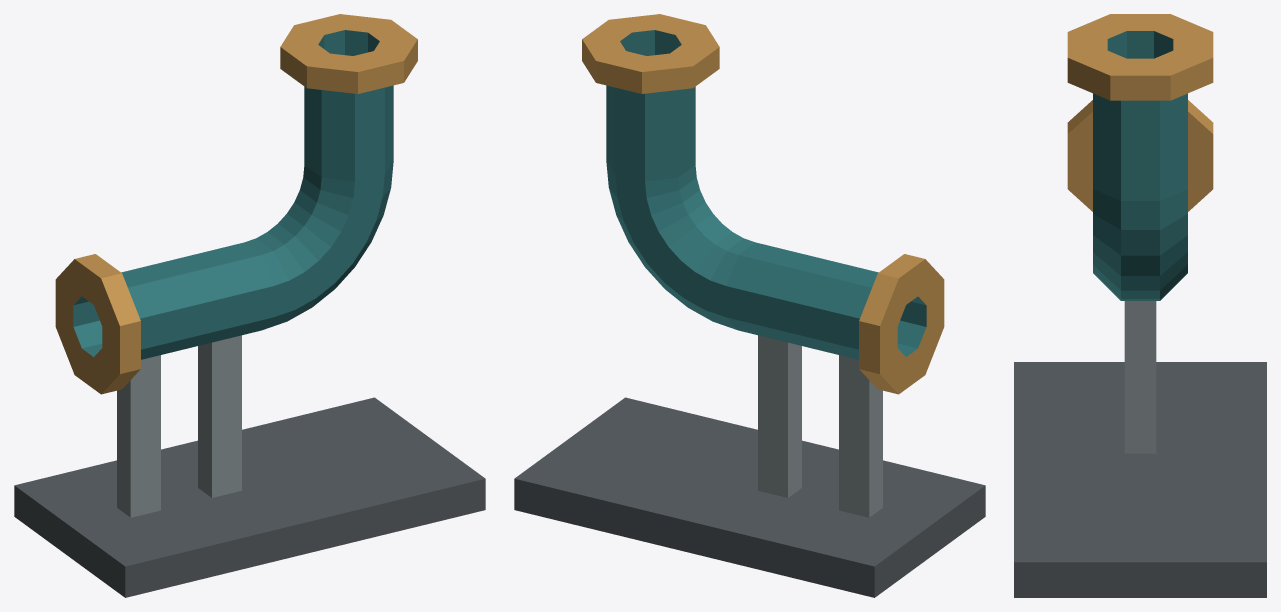
3 views of the same model, side by side, from view 1: azimuth 30°, elevation 25°; view 2: azimuth 150°, elevation 25°; view 3: azimuth 270°, elevation 25° (orthographic). The views are drawn at different scales.
Parts seen in each view (by area): view 1: ContinuousOpenFlangedElbow, GroundedDisplayBase, CompletePipePedestal_1, CompletePipePedestal_0; view 2: ContinuousOpenFlangedElbow, GroundedDisplayBase, CompletePipePedestal_1, CompletePipePedestal_0; view 3: GroundedDisplayBase, ContinuousOpenFlangedElbow, CompletePipePedestal_1.
Part boxes in pixels (x1,y1,x2,y2): ContinuousOpenFlangedElbow: (55,14,417,394); GroundedDisplayBase: (14,397,485,597); CompletePipePedestal_1: (198,335,241,497); CompletePipePedestal_0: (117,355,160,517); ContinuousOpenFlangedElbow: (582,14,944,394); GroundedDisplayBase: (514,397,985,597); CompletePipePedestal_1: (758,335,801,497); CompletePipePedestal_0: (839,355,882,517); GroundedDisplayBase: (1014,362,1266,597); ContinuousOpenFlangedElbow: (1067,14,1213,300); CompletePipePedestal_1: (1124,301,1156,453).
Size of the model in its own units: 1.2 by 1.42 by 0.64.
